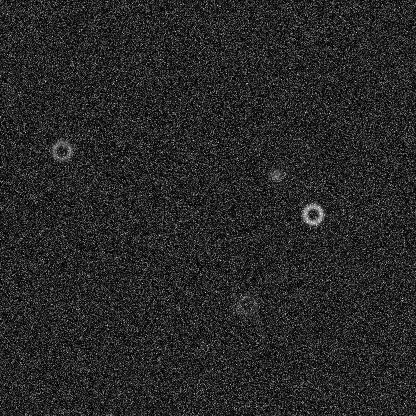Ring: (234, 292, 258, 316), (49, 138, 73, 162), (300, 202, 324, 226)
Spot: (267, 167, 283, 183)
